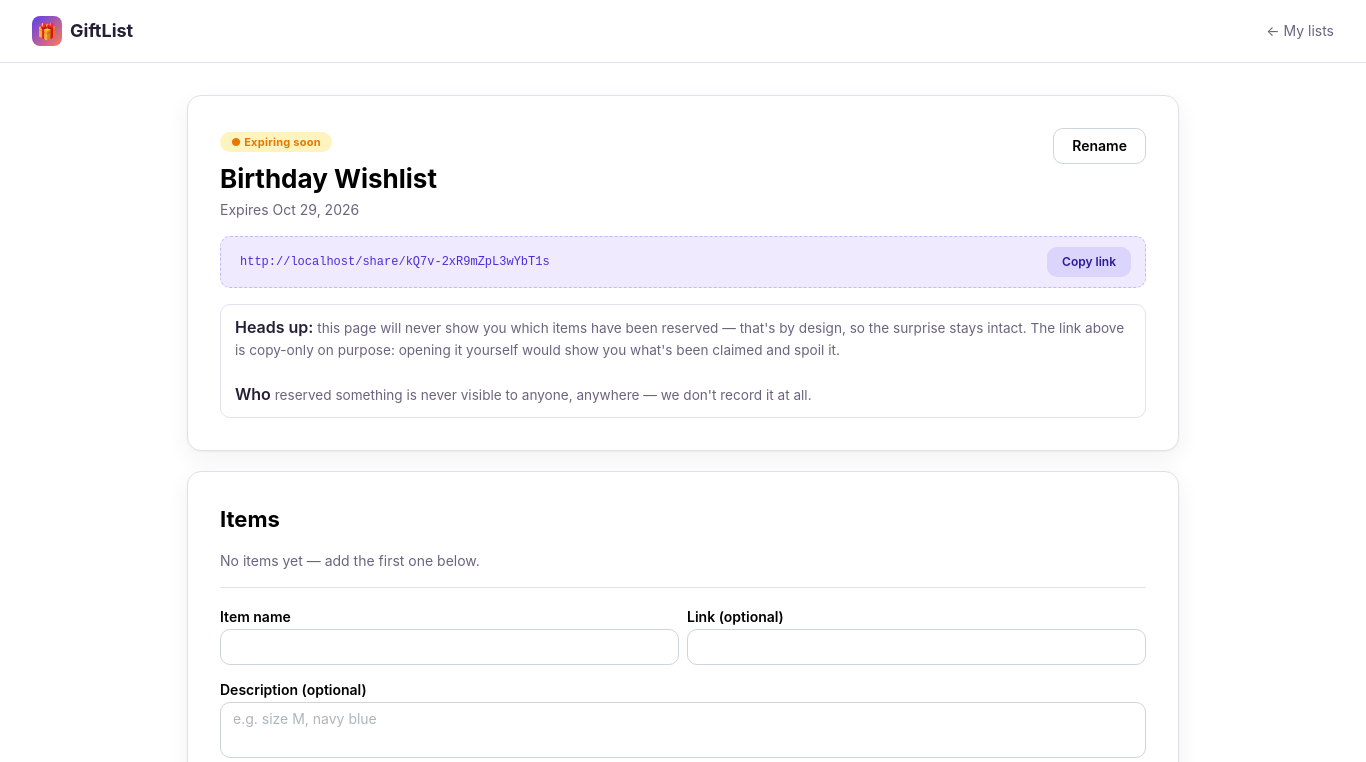
Test: ListDetailOwnerPage › ListDetailOwnerPage_ShouldRejectTheLink_WhenItIsOneOfTheConfirmedNetUriDivergences (http:example.com: missing the double slash after the scheme)
In the field labelled "Item name": (450, 647) [220,629,679,665], type "Espresso Machine"
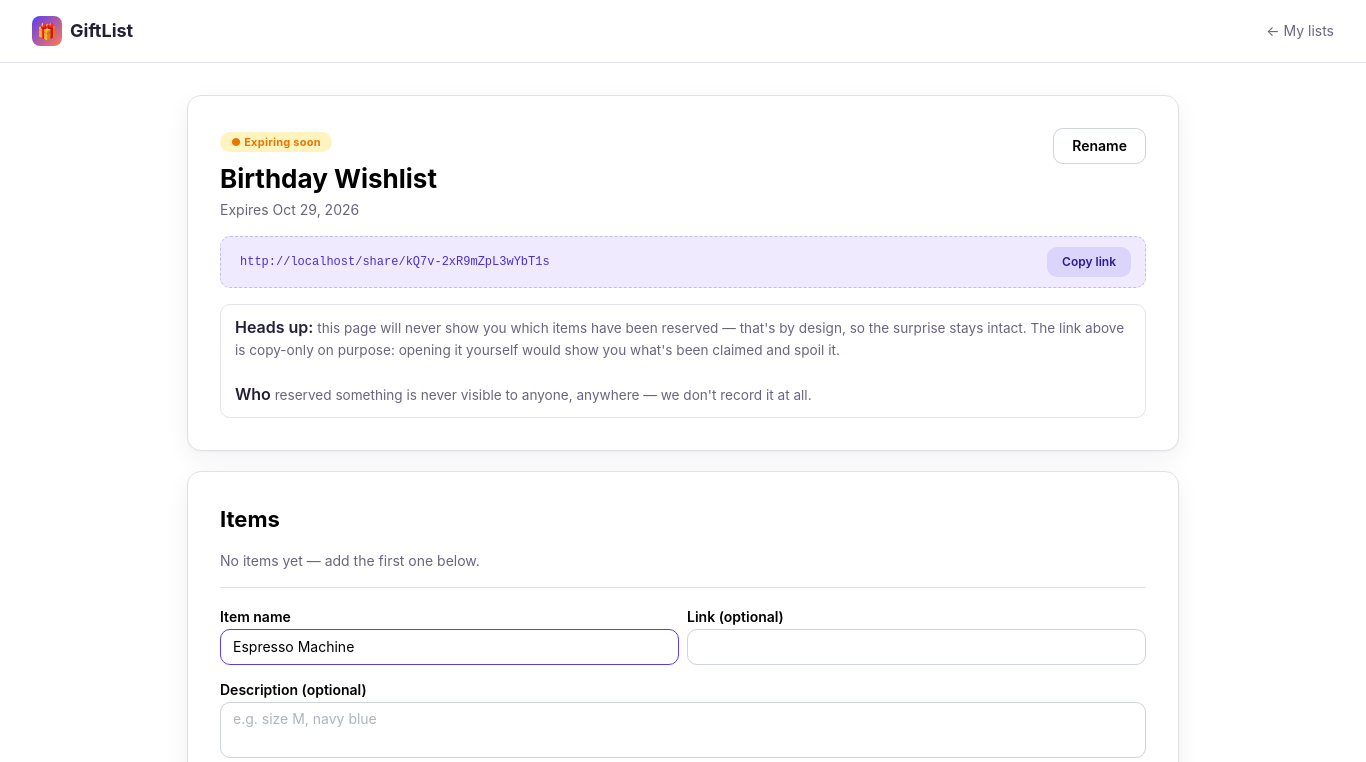
Click the field labelled "Link (optional)": (916, 647) [687,629,1146,665]
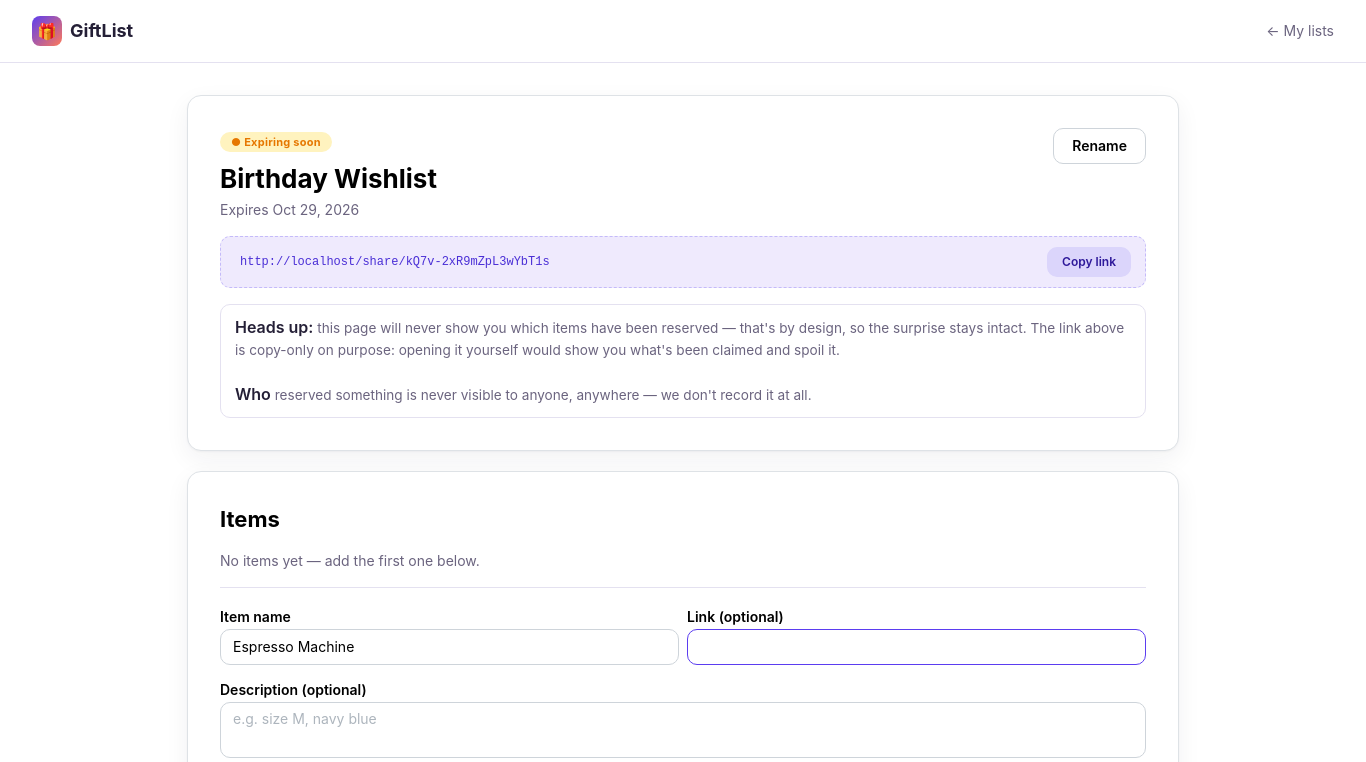
Type keys "http:example.com"
(page scrolled)
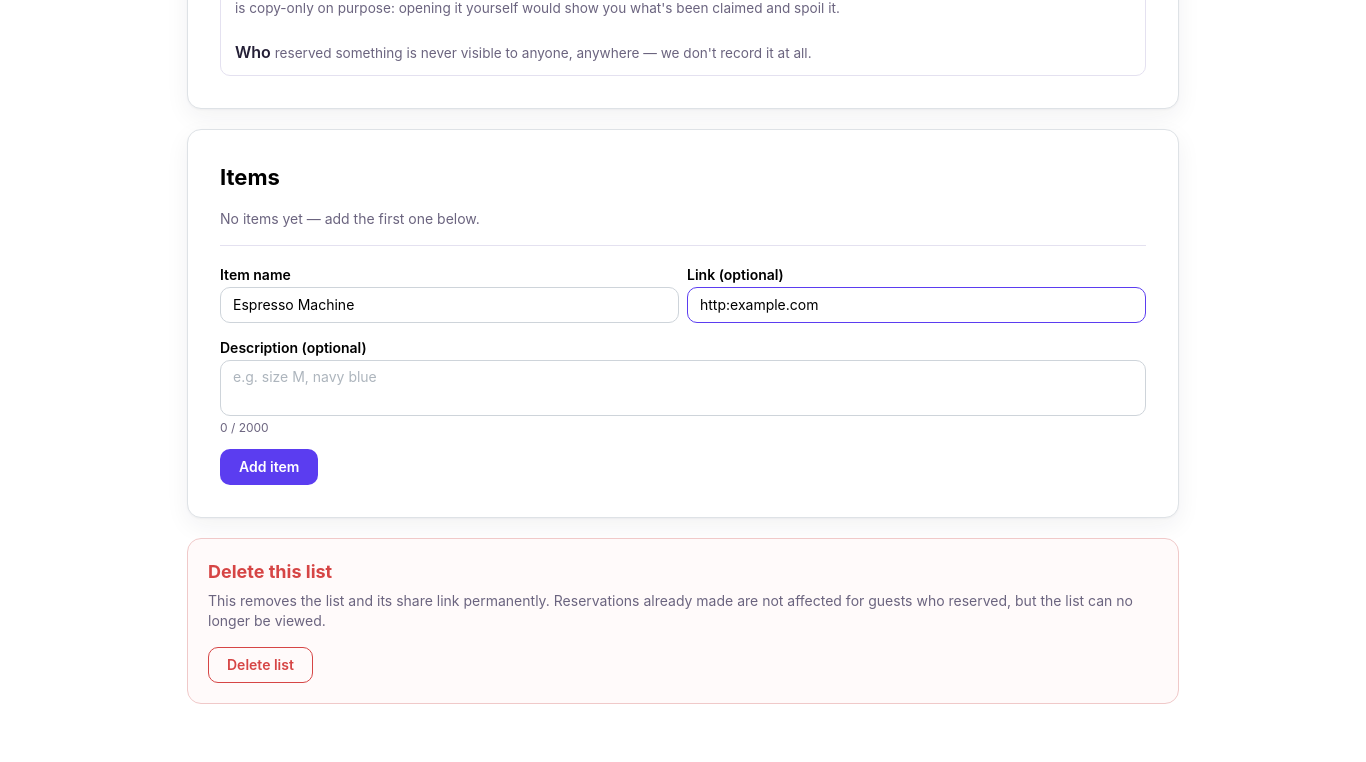
Click the button "Add item": (269, 467) [220,449,318,485]
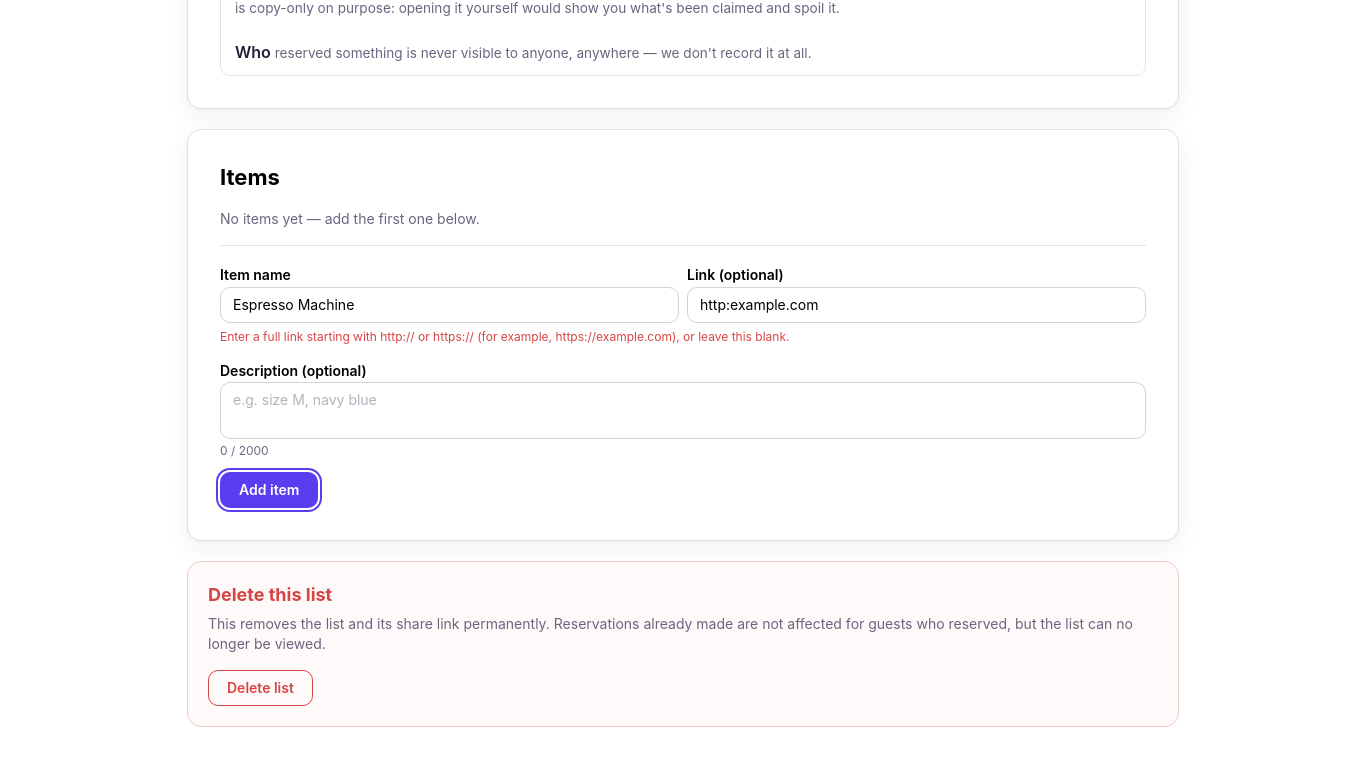
Result: the message shows "http:// or https://" at [220,329,789,344]
